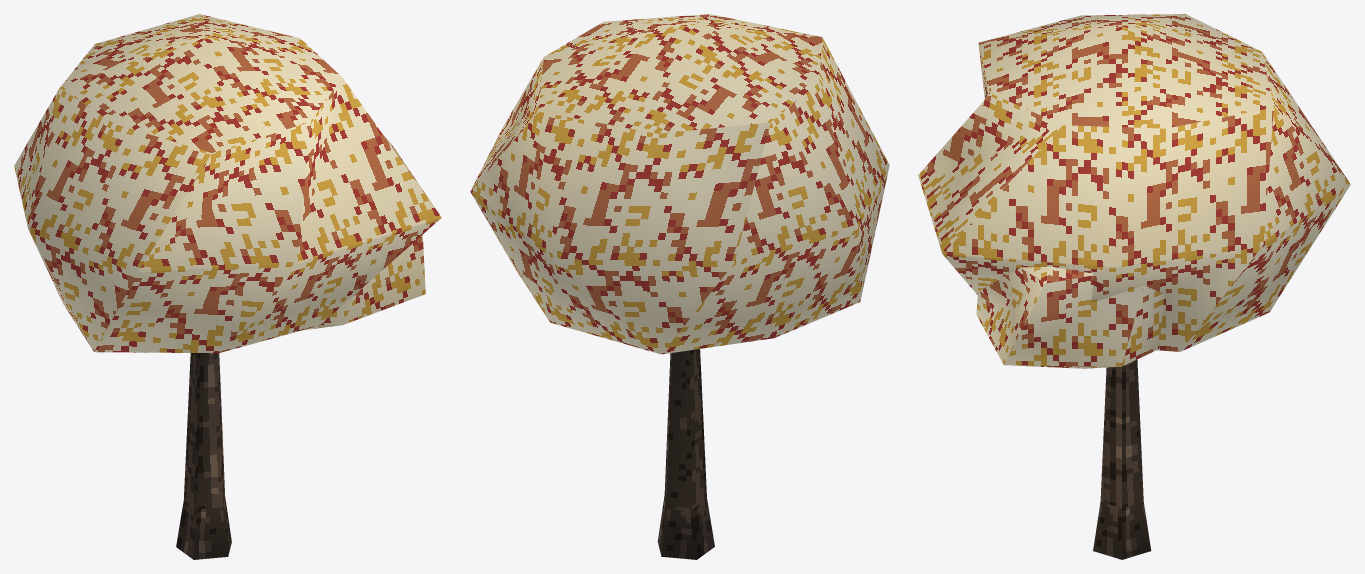
The model's file is mnat.orchard__blossom.glb.
3 renders of one model, left to right at view 1: azimuth 30°, elevation 25°; view 2: azimuth 150°, elevation 25°; view 3: azimuth 270°, elevation 25°, orthographic. The views are drawn at different scales.
Visible parts, largest first — view 1: kit_crown, kit_trunk; view 2: kit_crown, kit_trunk; view 3: kit_crown, kit_trunk.
Boxes of the visible parts, box(x1,y1,x2,y2) form: kit_crown: box(14, 14, 441, 353); kit_trunk: box(176, 353, 231, 559); kit_crown: box(470, 14, 889, 354); kit_trunk: box(657, 349, 714, 559); kit_crown: box(918, 14, 1350, 368); kit_trunk: box(1093, 359, 1151, 559).
Size of the model in its own units: 3.14 by 4.3 by 3.24.
2 materials, 2 textured.
